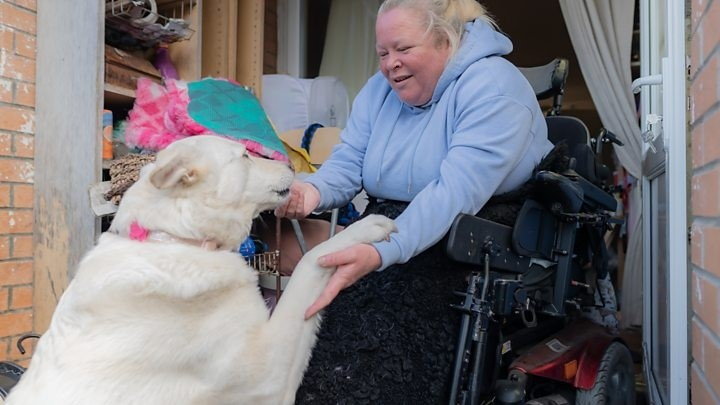face_no_mask: (374, 5, 471, 105)
